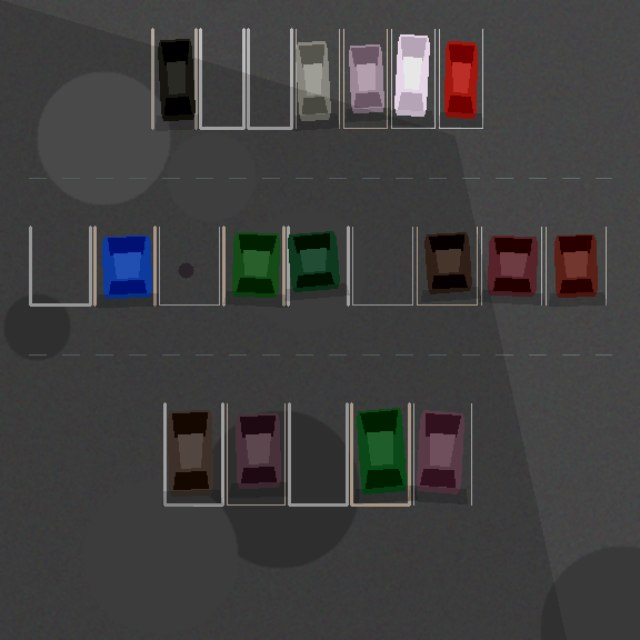space-empty: (289, 403, 347, 504), (30, 227, 90, 304), (159, 227, 219, 304), (352, 227, 412, 304), (200, 29, 243, 128), (248, 29, 291, 128)
space-occupied: (164, 403, 222, 504), (351, 403, 409, 504), (413, 403, 471, 504), (227, 403, 284, 504), (94, 227, 154, 304), (223, 227, 283, 304), (288, 227, 348, 304), (417, 227, 477, 304), (481, 227, 541, 304), (546, 227, 606, 304), (152, 29, 196, 128), (343, 29, 387, 128), (296, 29, 339, 128), (391, 29, 434, 128), (439, 29, 482, 128)
